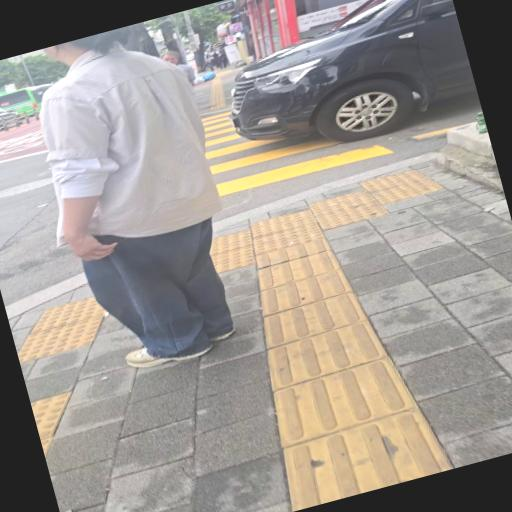yellow-crosswalk: (130, 56, 418, 226)
